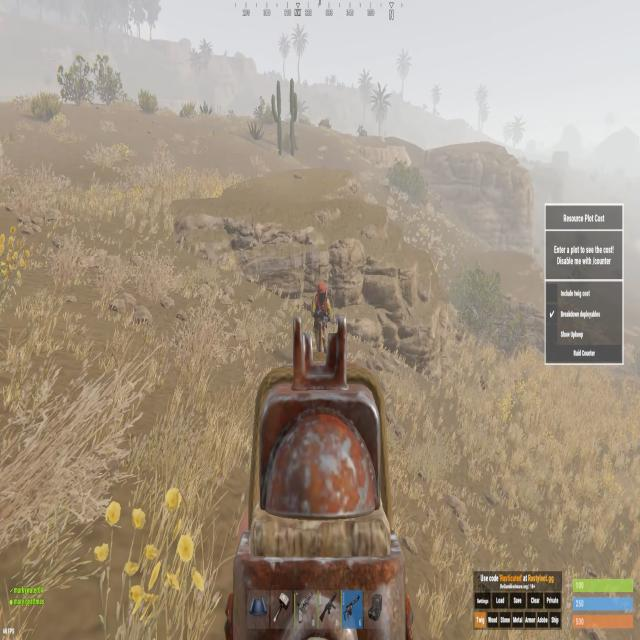Player: (310, 282, 332, 333)
